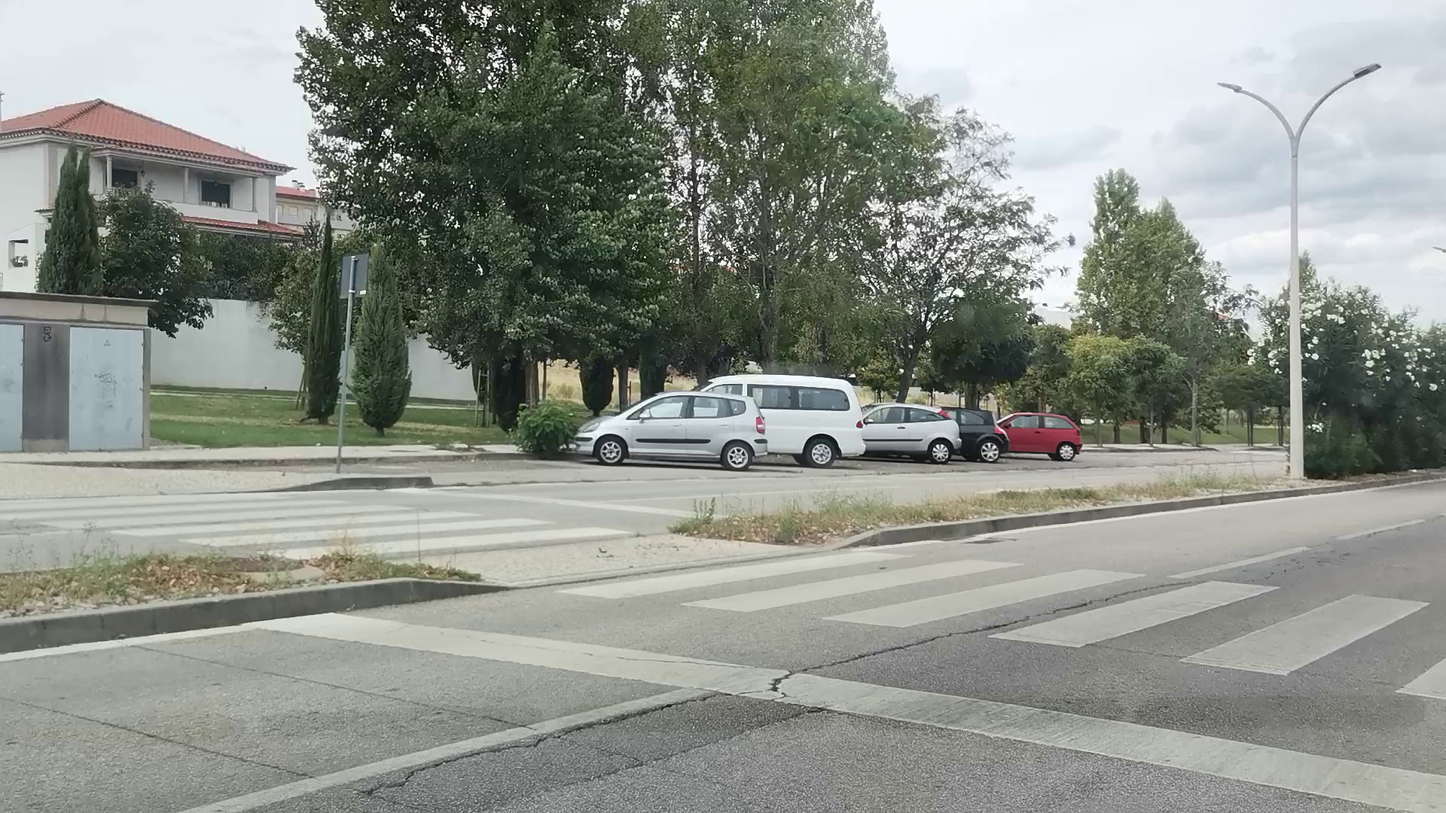Stairs: (569, 550, 1446, 725), (9, 491, 601, 547)
